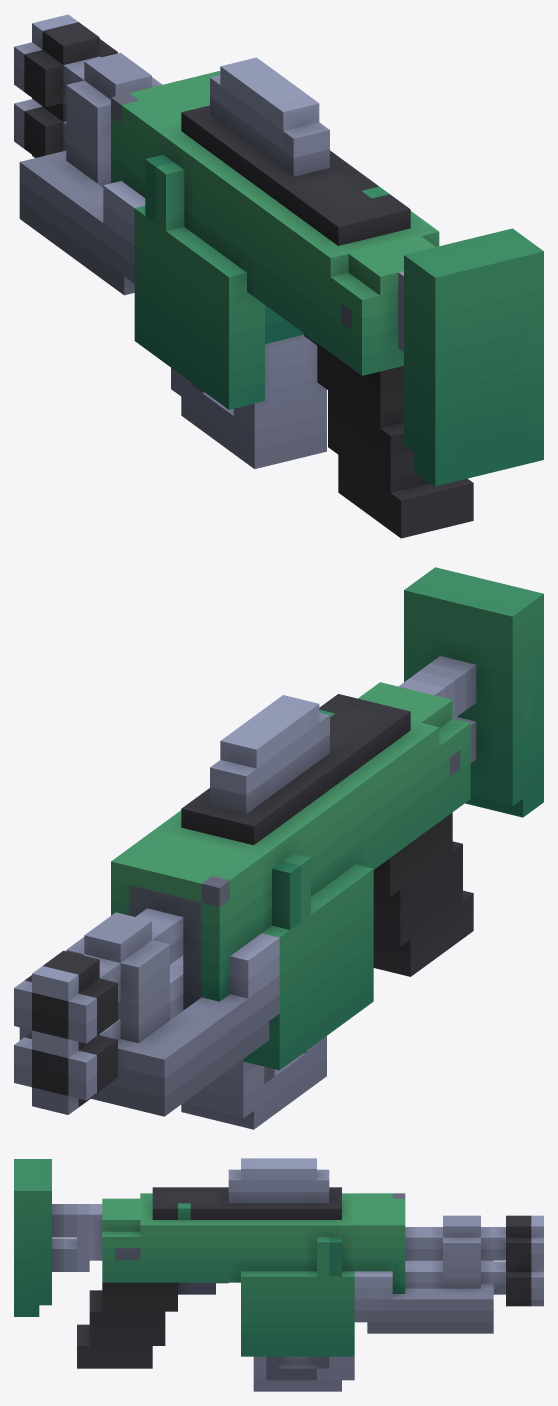
Rendered from blaster_p.glb.
3 renders of one model, top to bottom at view 1: azimuth 30°, elevation 25°; view 2: azimuth 150°, elevation 25°; view 3: azimuth 270°, elevation 25°, orthographic. The views are drawn at different scales.
Visible parts, largest first — view 1: voxels; view 2: voxels; view 3: voxels.
Boxes of the visible parts, left/top/right/bottom form: voxels: left=14, top=14, right=543, bottom=538; voxels: left=14, top=567, right=543, bottom=1129; voxels: left=14, top=1158, right=543, bottom=1391.
Bounding box in the file's own units: 0.1648 × 0.3915 × 0.8654.
